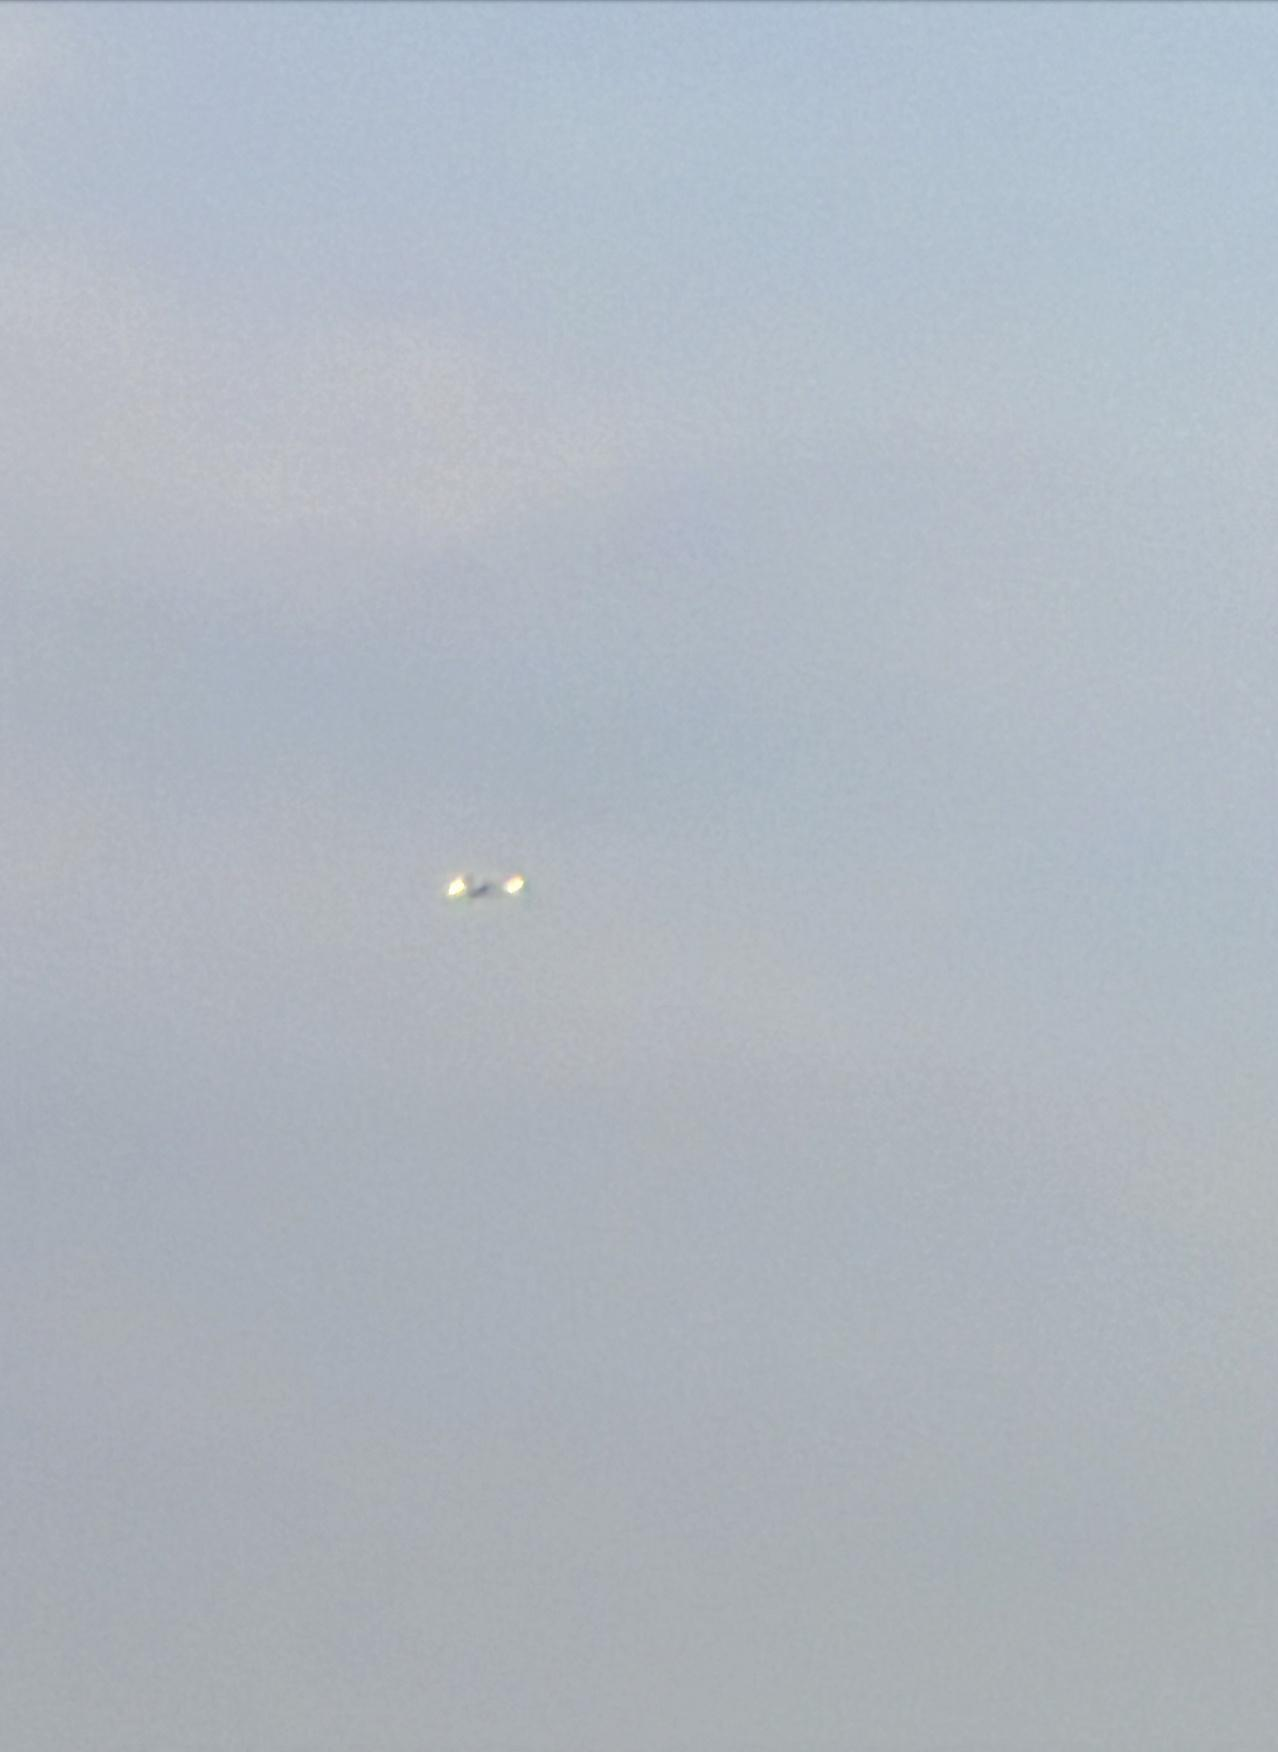Plane: (411, 830, 552, 945)
